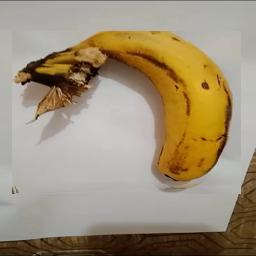Banana Semifresh: (12, 32, 241, 195)
